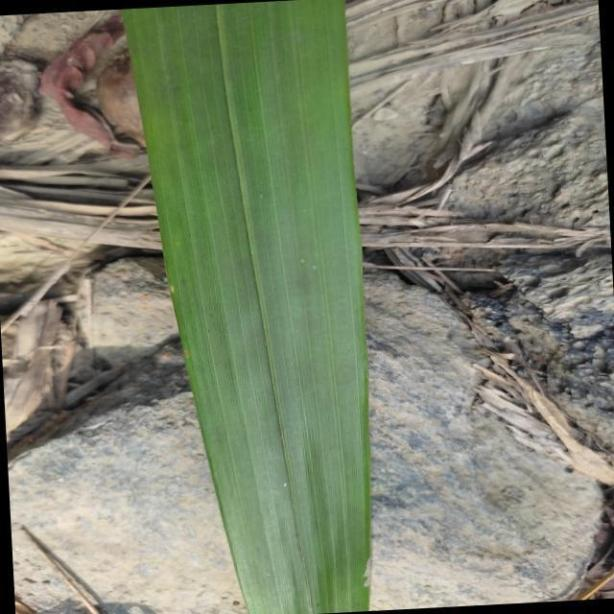Healthy: (118, 1, 369, 614)
